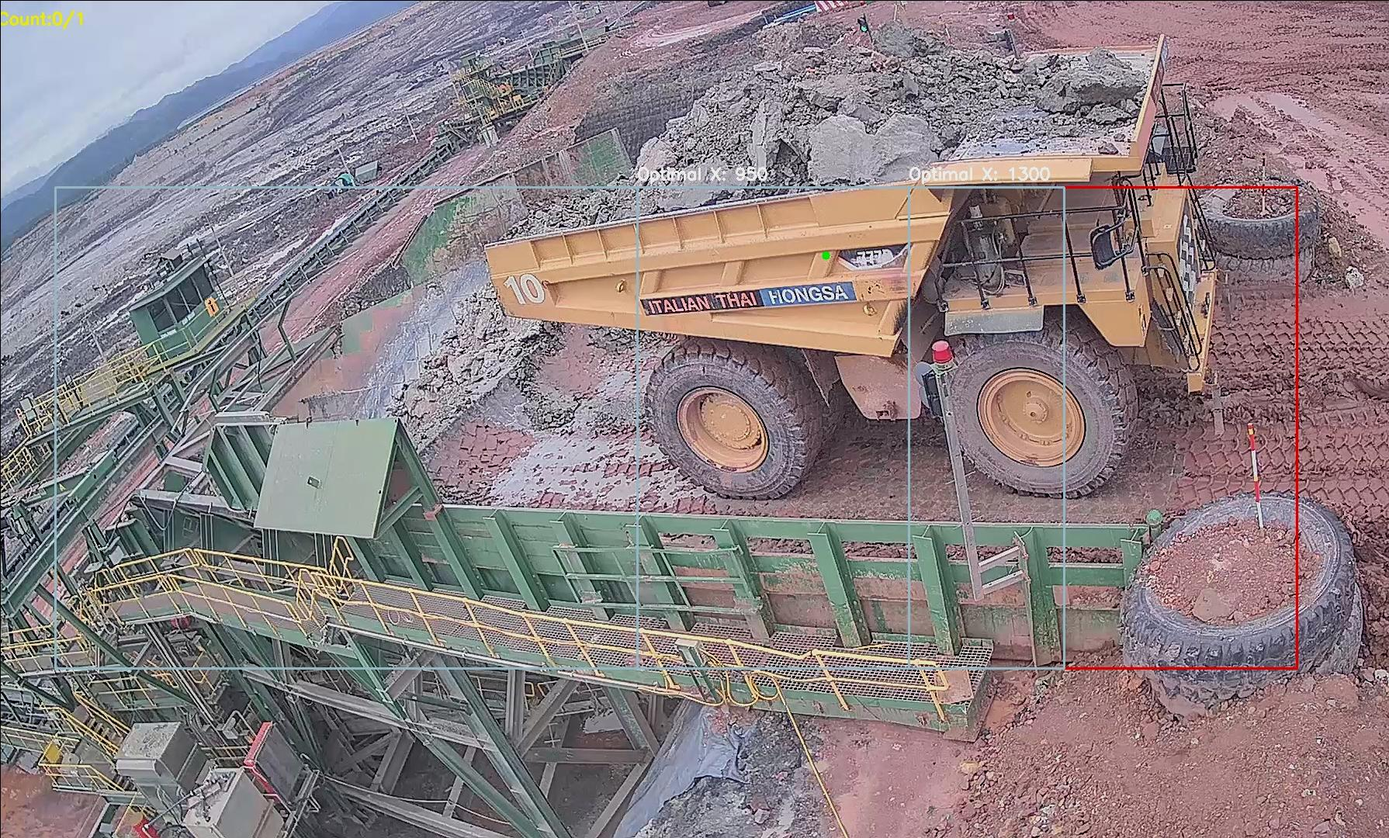company: (631, 279, 877, 323)
full_load: (648, 26, 943, 215)
mining_truck: (482, 7, 1236, 495)
tail_number: (500, 265, 550, 310)
truck_size: (837, 239, 911, 270)
